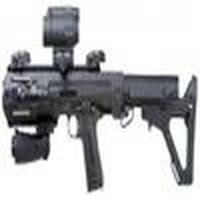gun: (3, 4, 196, 194)
